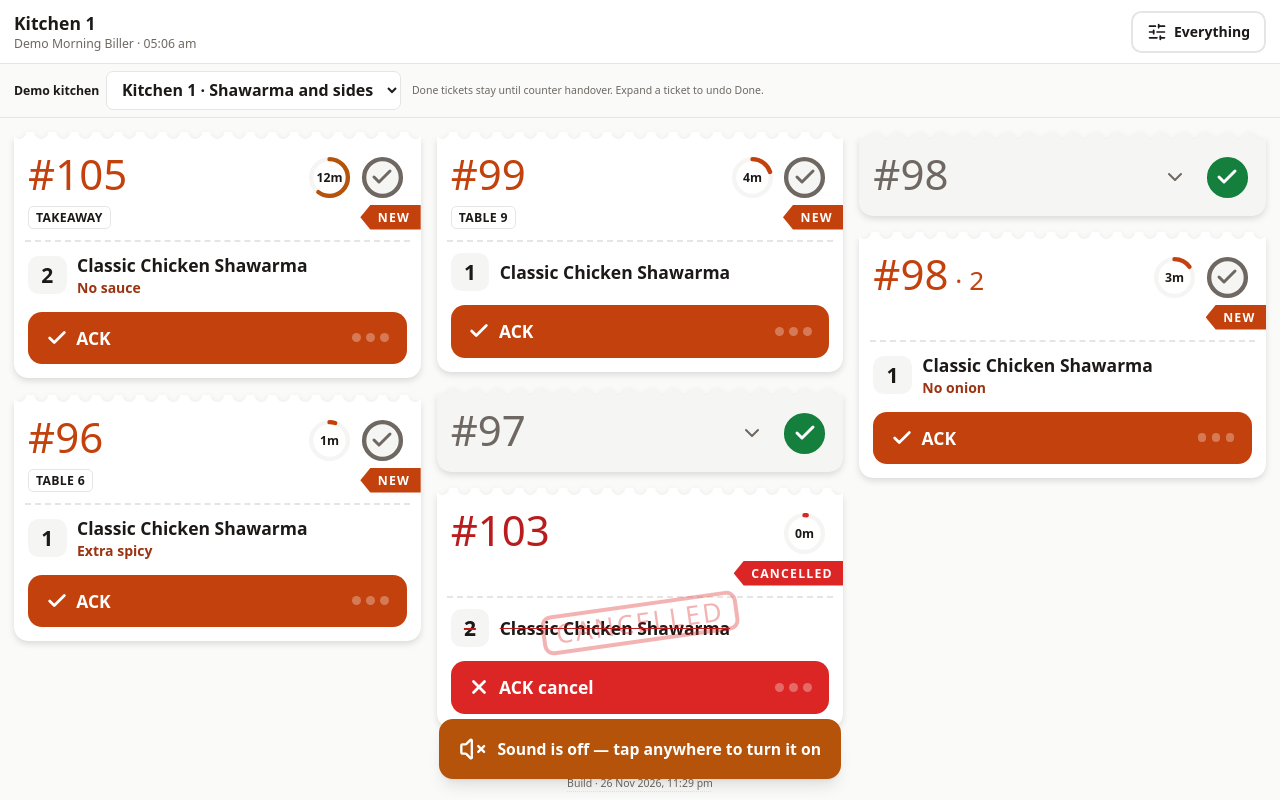
it: the kitchen board › states its filter, and a saved filter changes what it shows
This screenshot has width=1280, height=800.
Check: the text with test id "kitchen-filter-summary" reads "Everything", box [1174,22,1250,41]
Click the button with aria-label "Filter: ".
click(1198, 32)  # box [1131,10,1266,52]
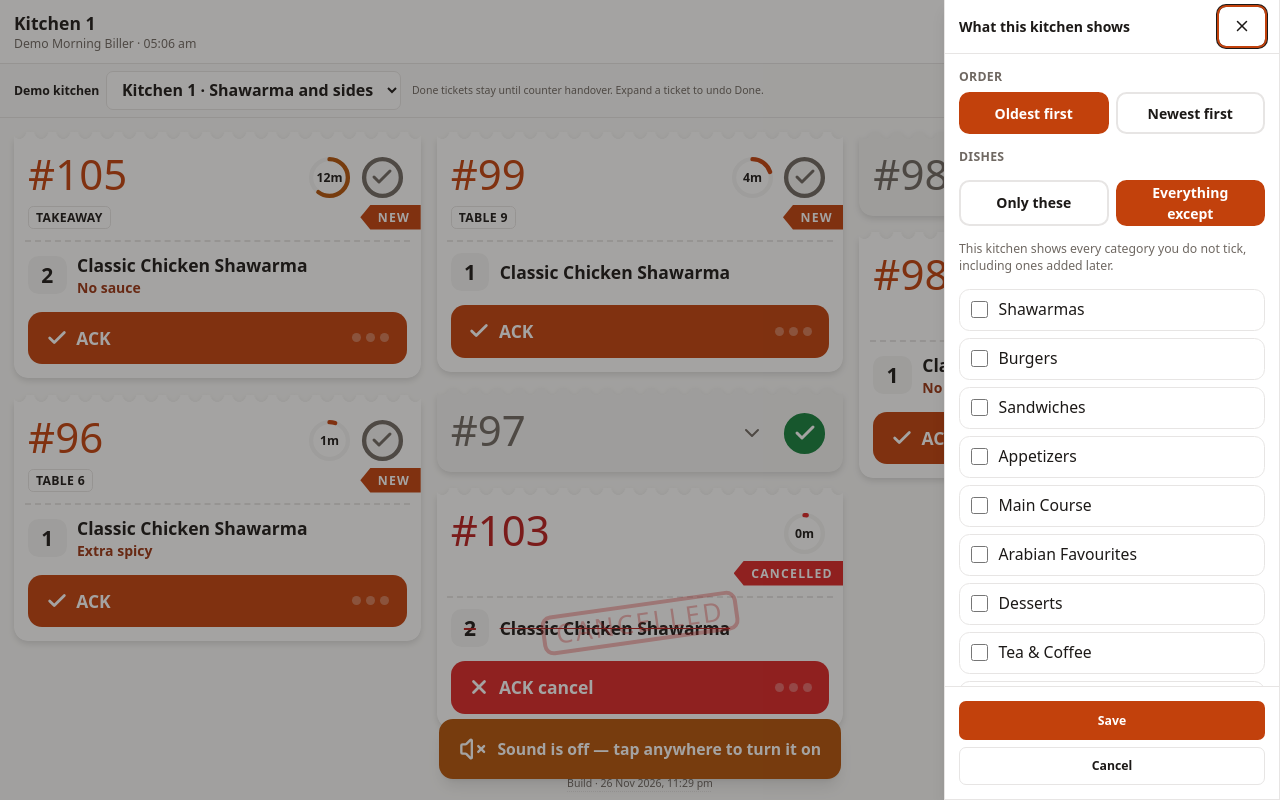
Click the radio button labelled "Only these".
click(1034, 202)  # box [959,180,1108,226]
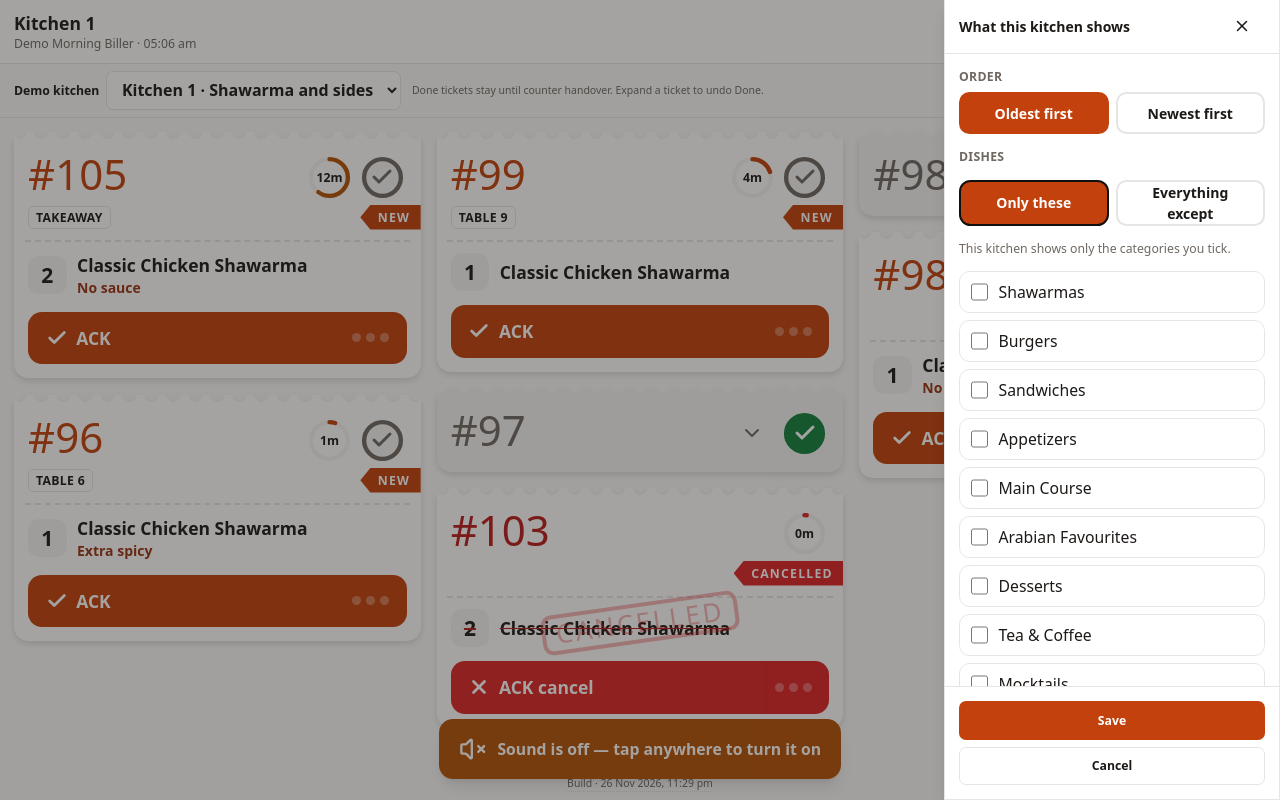
Click the checkbox labelled "Burgers".
click(979, 341)  # box [970,332,988,350]
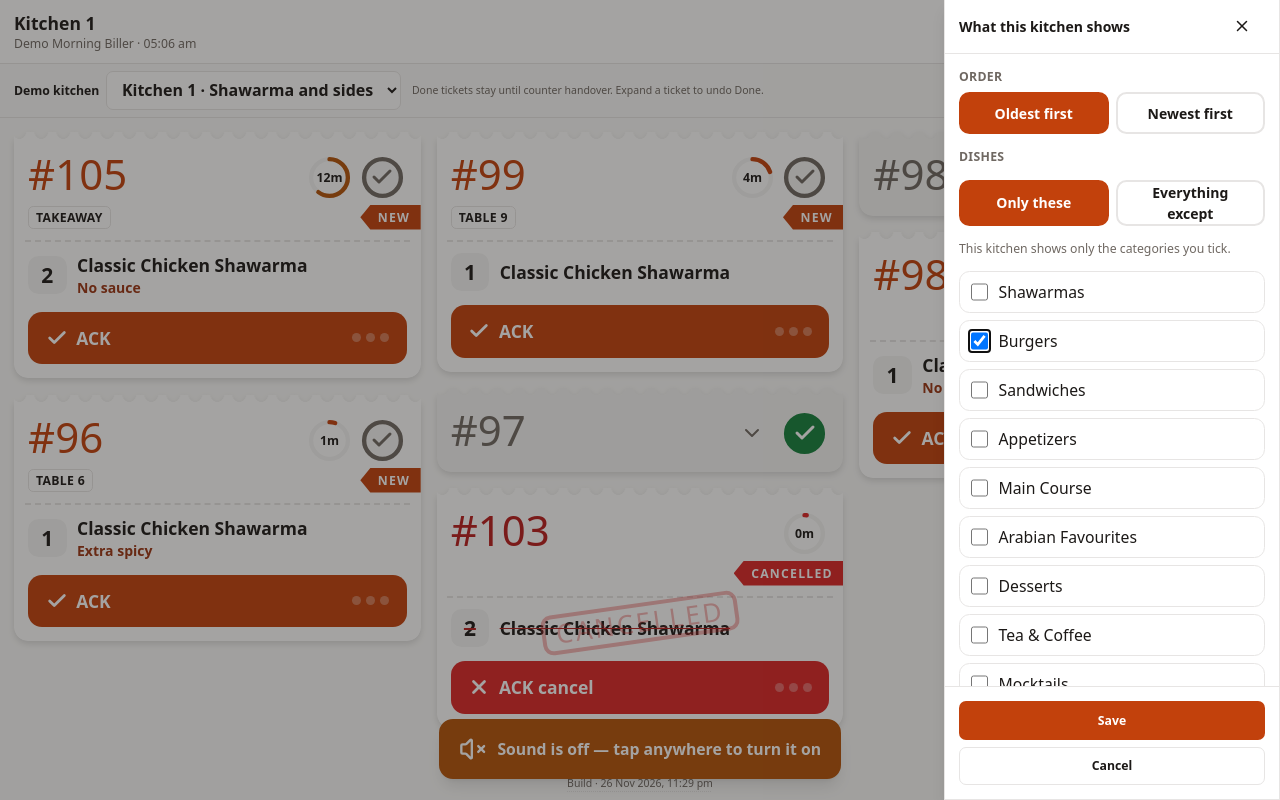
Click the button "Save".
click(1112, 720)  # box [959,701,1265,740]
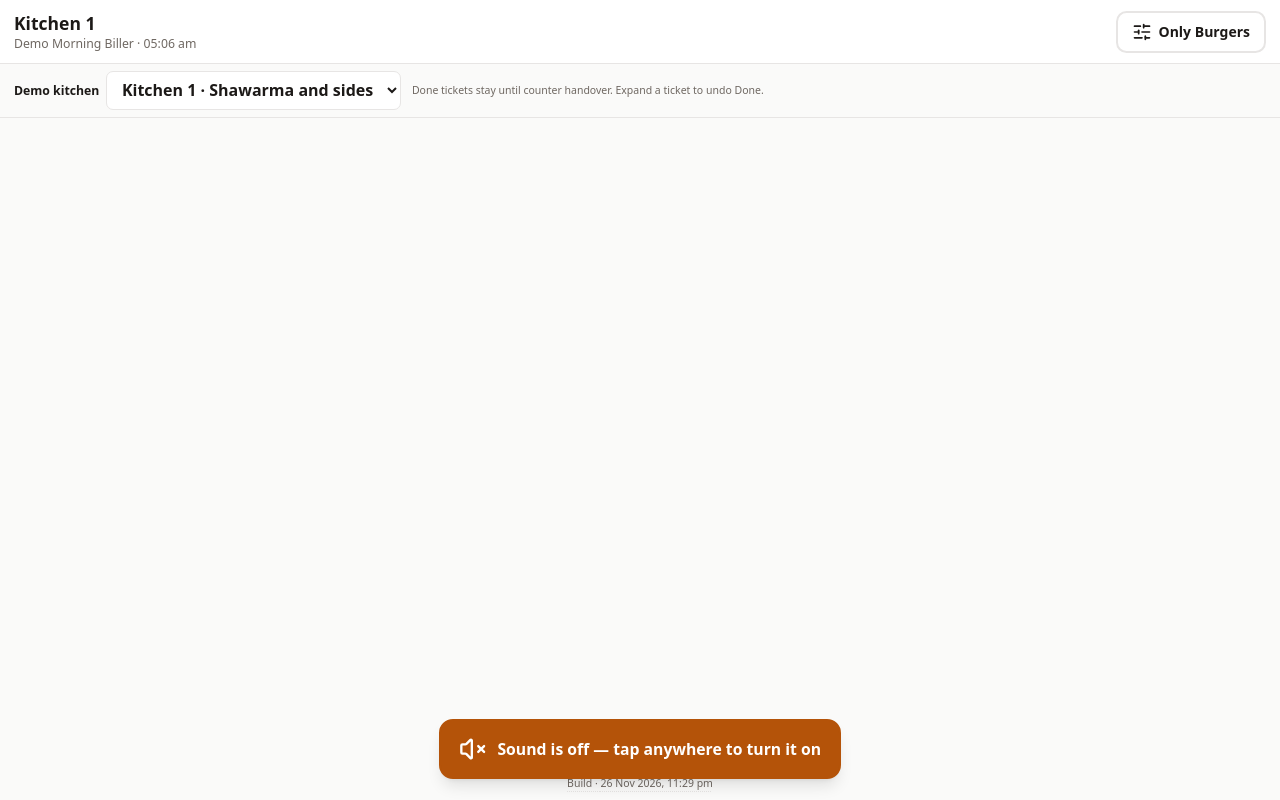
Check: the text with test id "kitchen-filter-summary" reads "Only Burgers", box [1158,22,1250,41]
